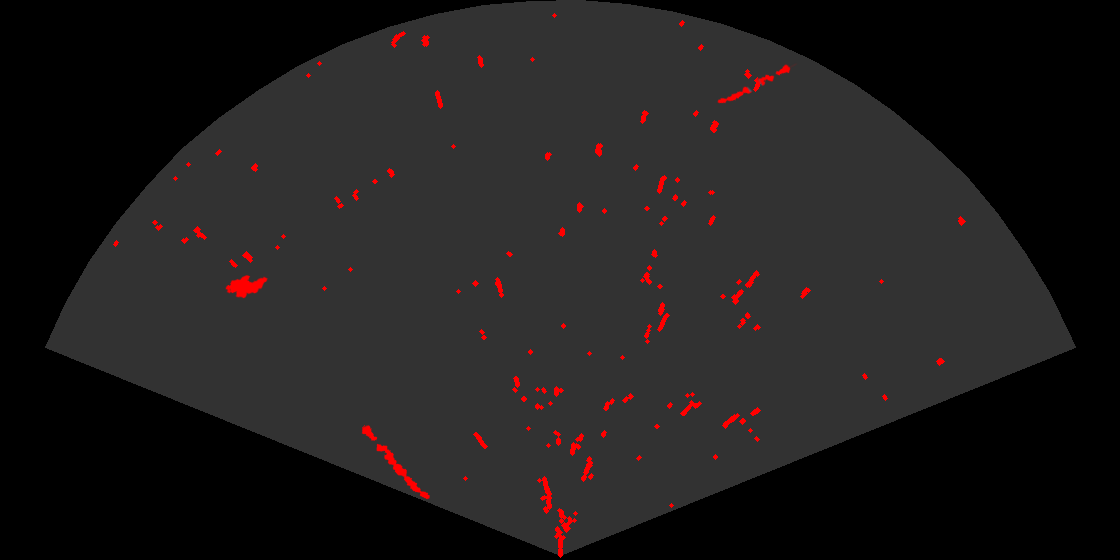AUV: (224, 273, 269, 300)
chain: (360, 424, 431, 501), (716, 62, 798, 105)
